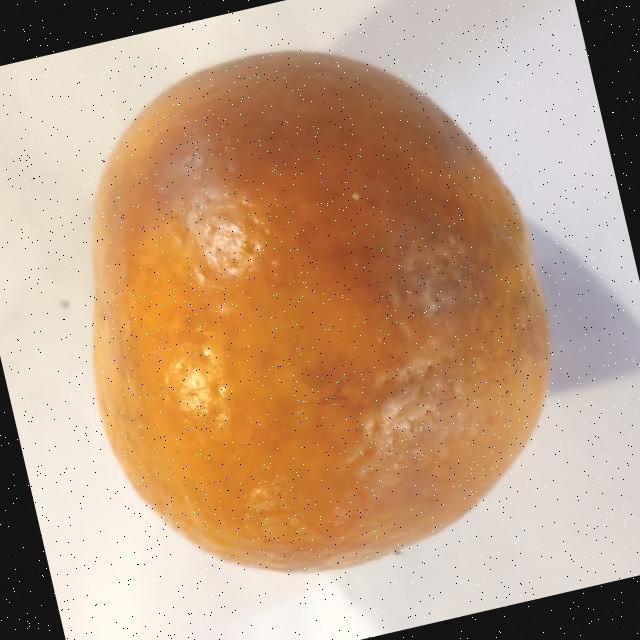Rotten: (28, 1, 594, 614)
